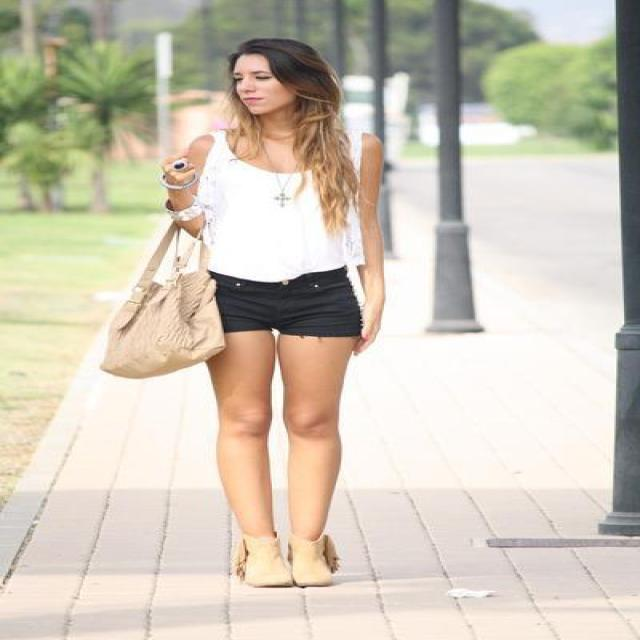bag: (101, 210, 222, 379)
shirt: (173, 140, 363, 282)
shoe: (236, 536, 338, 584)
shorts: (211, 269, 362, 341)
